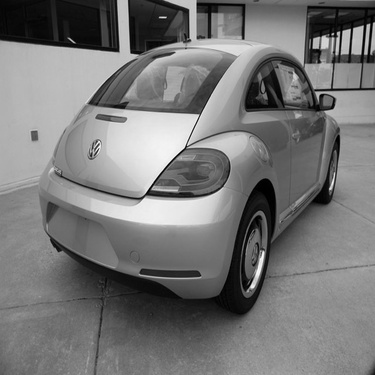car: (29, 37, 343, 316)
